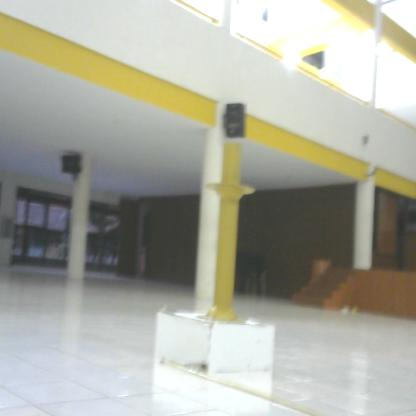pole: (199, 144, 259, 328)
